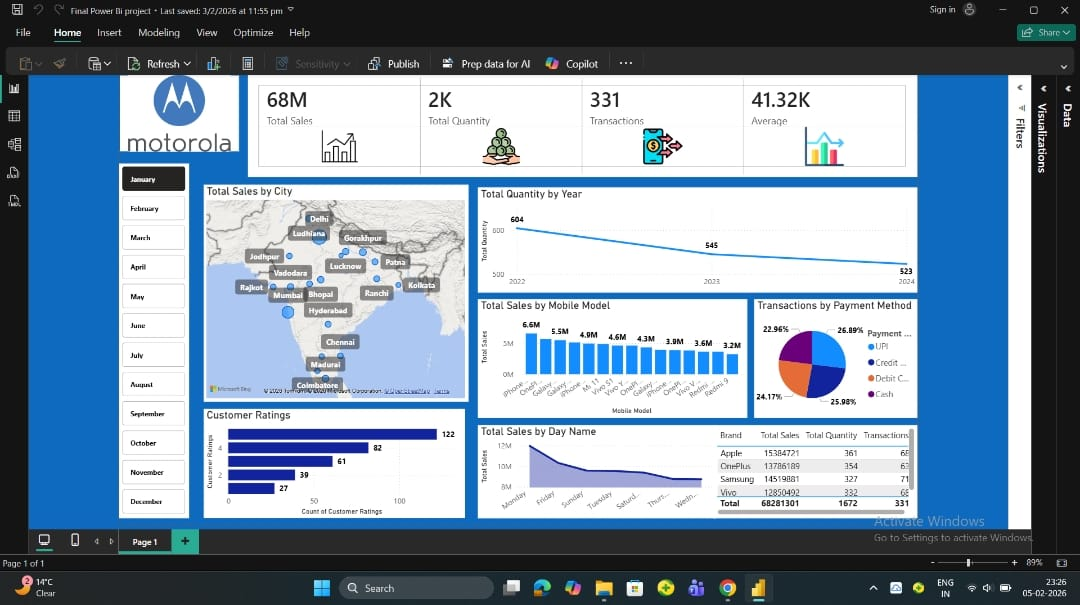

What the dashboard file says about the page in this screenshot:
{"tool":"powerbi","page":{"name":"Page 1","canvas":[1280,720],"ordinal":0},"visuals":[{"type":"shape","box":[0,0,192.8,123.2],"z":0},{"type":"image","box":[0,0,192.8,123.2],"z":1000},{"type":"advancedSlicerVisual","fields":{"Values":["Sales data.Date.Variation.Date Hierarchy.Month"]},"box":[0,141.8,112,568.5],"z":2000},{"type":"cardVisual","fields":{"Data":["Sales data.Total Sales","Sales data.Total Quantity","Sales data.Transactions","Sales data.Average"]},"box":[206.5,0,1073.5,164.2],"z":3000},{"type":"map","fields":{"Category":["Sales data.City"],"Size":["Sales data.Total Sales"]},"box":[135.6,175.4,424.2,347.1],"z":3001},{"type":"lineChart","fields":{"Y":["Sales data.Total Quantity"],"Category":["Sales data.Date.Variation.Date Hierarchy.Year","Sales data.Date.Variation.Date Hierarchy.Month"]},"box":[574.7,180.4,705.3,169.2],"z":3002},{"type":"clusteredColumnChart","fields":{"Category":["Sales data.Mobile Model"],"Y":["Sales data.Total Sales"]},"box":[574.7,359.5,431.7,190.3],"z":3003},{"type":"pieChart","fields":{"Category":["Sales data.Payment Method"],"Y":["Sales data.Transactions"]},"box":[1017.6,359.5,262.5,190.3],"z":3005},{"type":"clusteredBarChart","title":" Customer Ratings","fields":{"Category":["Sales data.Customer Ratings"],"Y":["CountNonNull(Sales data.Customer Ratings)"]},"box":[135.6,534.9,419.2,175.4],"z":3006},{"type":"stackedAreaChart","fields":{"Category":["Sales data.Day Name"],"Y":["Sales data.Total Sales"]},"box":[574.7,561,381.9,149.3],"z":3007},{"type":"tableEx","fields":{"Values":["Sales data.Brand","Sales data.Total Sales","Sales data.Total Quantity","Sales data.Transactions"]},"box":[952.9,561,327.2,149.3],"z":3008}]}

Visuals, with their boxes on the page's 1280x720 design canvas (x1, y1, x2, y2). These are canvas units, not pixel positions in the 1080x605 screenshot, which may show the page scaled, cropped or inside an application window:
shape: [left=0, top=0, right=193, bottom=123]
image: [left=0, top=0, right=193, bottom=123]
advancedSlicerVisual - Sales data.Date.Variation.Date Hierarchy.Month: [left=0, top=142, right=112, bottom=710]
cardVisual - Sales data.Total Sales x Sales data.Total Quantity: [left=206, top=0, right=1280, bottom=164]
map - Sales data.City x Sales data.Total Sales: [left=136, top=175, right=560, bottom=522]
lineChart - Sales data.Total Quantity x Sales data.Date.Variation.Date Hierarchy.Year: [left=575, top=180, right=1280, bottom=350]
clusteredColumnChart - Sales data.Mobile Model x Sales data.Total Sales: [left=575, top=360, right=1006, bottom=550]
pieChart - Sales data.Payment Method x Sales data.Transactions: [left=1018, top=360, right=1280, bottom=550]
" Customer Ratings" clusteredBarChart: [left=136, top=535, right=555, bottom=710]
stackedAreaChart - Sales data.Day Name x Sales data.Total Sales: [left=575, top=561, right=957, bottom=710]
tableEx - Sales data.Brand x Sales data.Total Sales: [left=953, top=561, right=1280, bottom=710]
